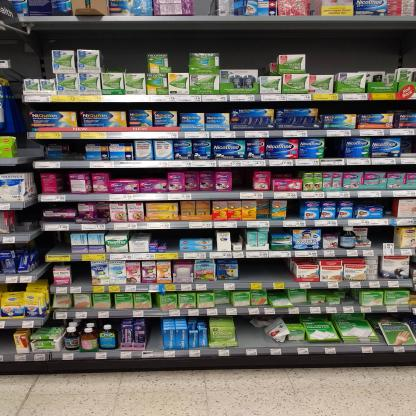Void: (321, 102, 410, 113), (241, 260, 290, 279), (235, 319, 262, 346), (232, 166, 254, 190), (146, 321, 164, 349), (322, 138, 344, 160), (111, 171, 164, 180), (46, 235, 71, 254), (70, 265, 92, 286), (66, 140, 81, 158), (372, 228, 389, 242), (184, 230, 212, 238), (158, 233, 174, 241)
